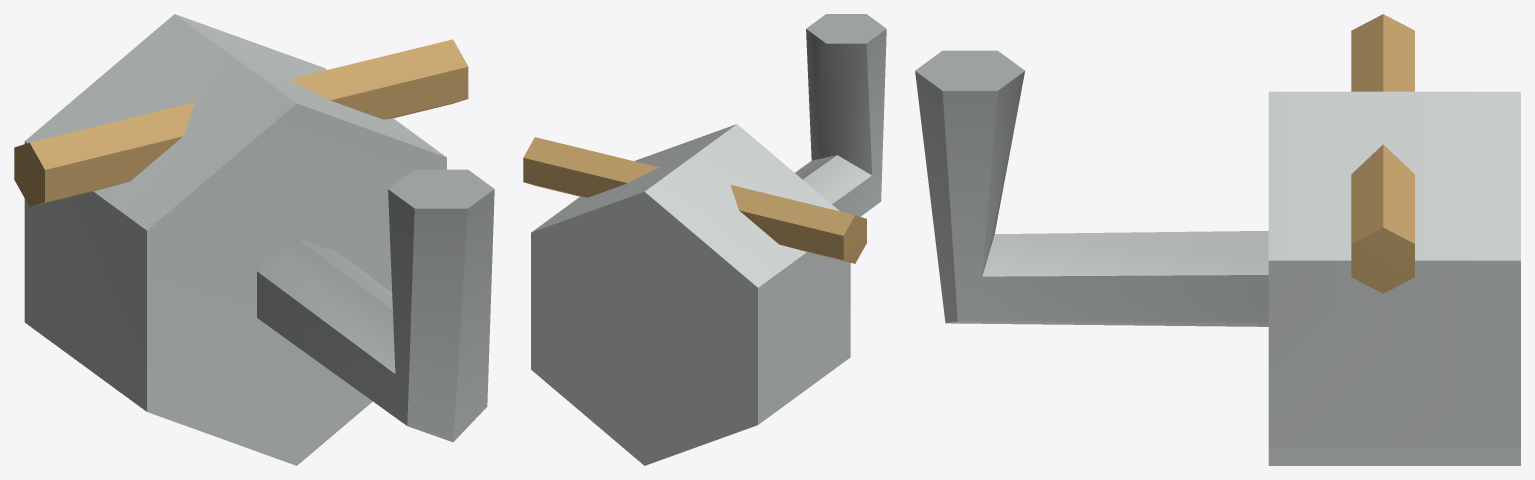
The model's file is pot-filler-lod1.glb.
The picture shows the model from 3 angles, left to right: view 1: azimuth 30°, elevation 25°; view 2: azimuth 150°, elevation 25°; view 3: azimuth 270°, elevation 25°; orthographic projection. The views are drawn at different scales.
Visible parts, largest first — view 1: pot-filler.lod1__furniture polished nickel, pot-filler.lod1__furniture brushed brass; view 2: pot-filler.lod1__furniture polished nickel, pot-filler.lod1__furniture brushed brass; view 3: pot-filler.lod1__furniture polished nickel, pot-filler.lod1__furniture brushed brass.
Boxes of the visible parts, left/top/right/bottom form: pot-filler.lod1__furniture polished nickel: left=24, top=14, right=494, bottom=465; pot-filler.lod1__furniture brushed brass: left=14, top=39, right=468, bottom=206; pot-filler.lod1__furniture polished nickel: left=531, top=14, right=886, bottom=465; pot-filler.lod1__furniture brushed brass: left=523, top=137, right=866, bottom=263; pot-filler.lod1__furniture polished nickel: left=915, top=50, right=1520, bottom=465; pot-filler.lod1__furniture brushed brass: left=1351, top=14, right=1414, bottom=293.
Size of what is drawn, in the model's own units: 0.11 by 0.095 by 0.132.
